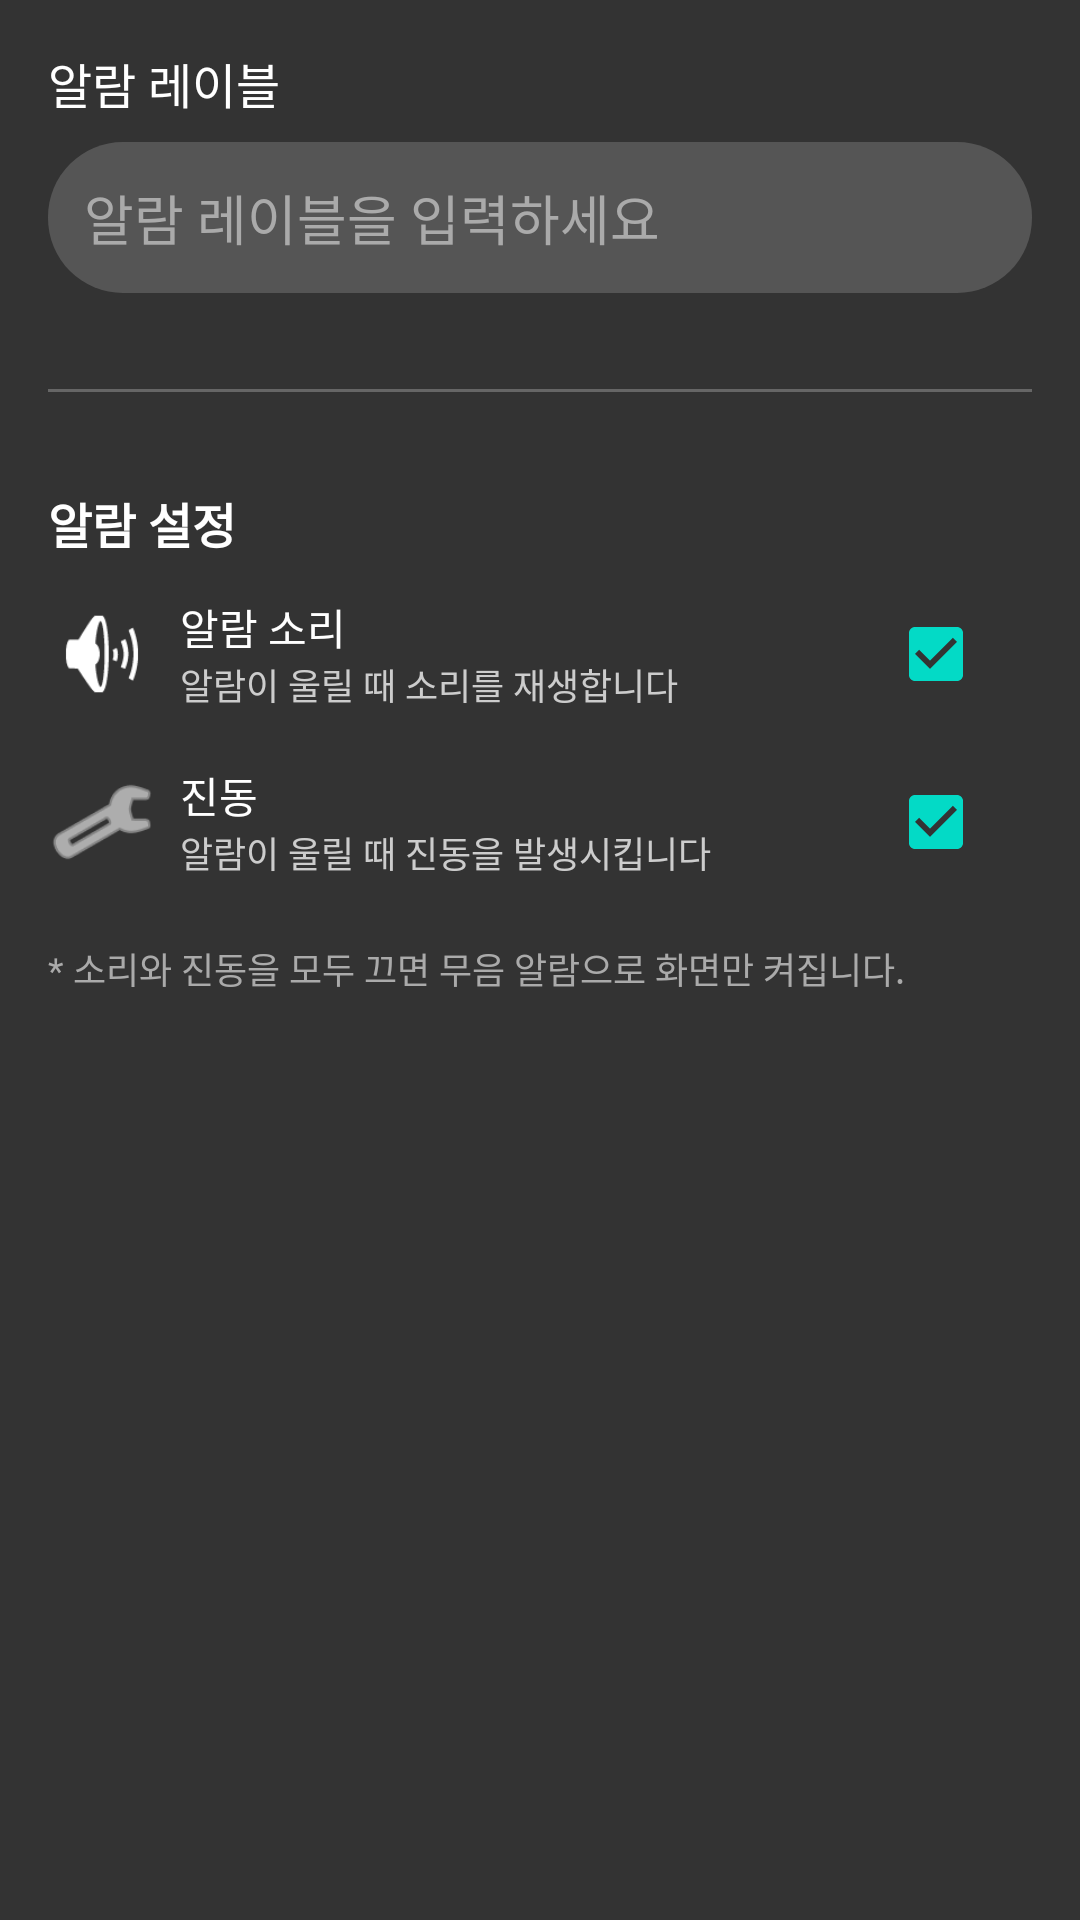

Where icons sit on this 1080px x 1920px app screen, as (x1,y1,x2,y2):
lock silent mode off: (66,615,138,693)
preferences: (53,785,151,859)
